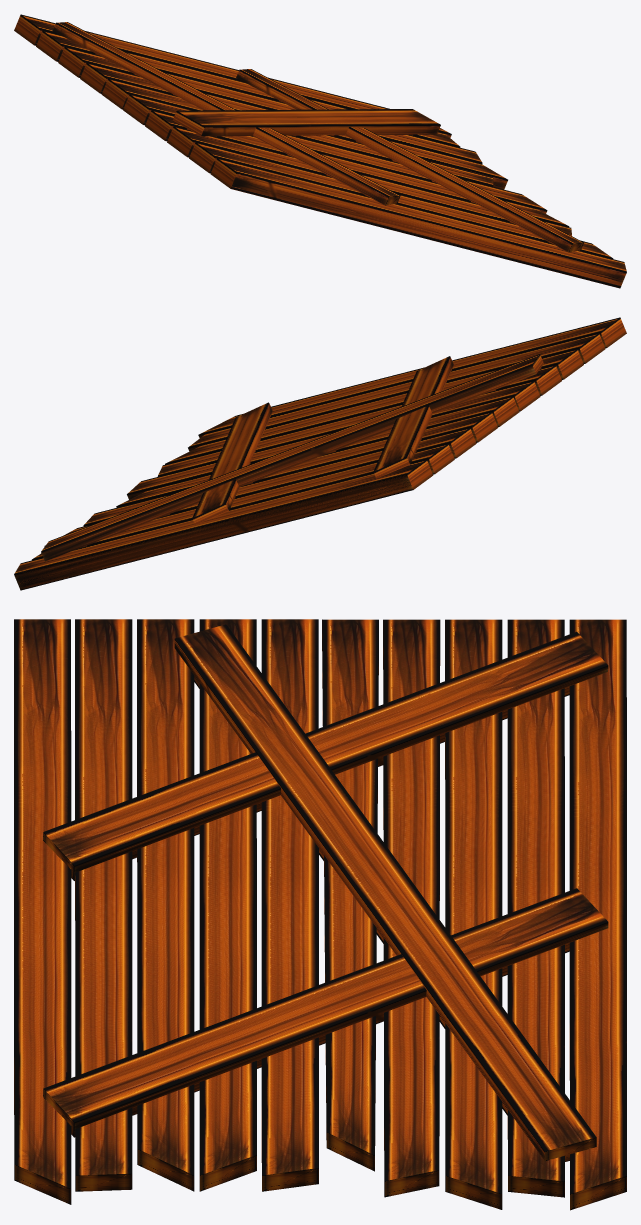
File: roof.fbx
The picture shows the model from 3 angles, top to bottom: view 1: azimuth 30°, elevation 25°; view 2: azimuth 150°, elevation 25°; view 3: azimuth 270°, elevation 25°; orthographic projection. The views are drawn at different scales.
Visible parts, largest first — view 1: roof; view 2: roof; view 3: roof.
Part boxes in pixels (bbox=[...]): roof: bbox=[14, 14, 626, 288]; roof: bbox=[14, 317, 626, 590]; roof: bbox=[14, 619, 626, 1210].
Bounding box in the file's own units: 457 × 234 × 410.
